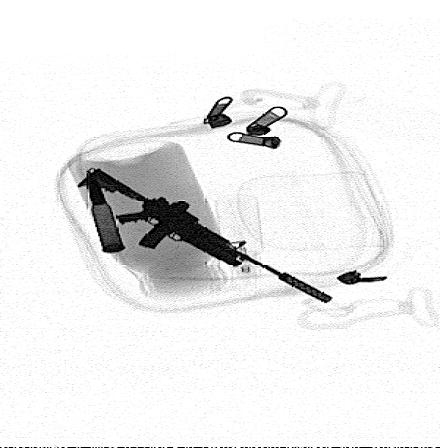Bullet: (87, 171, 125, 252)
Gun: (76, 167, 333, 304)
